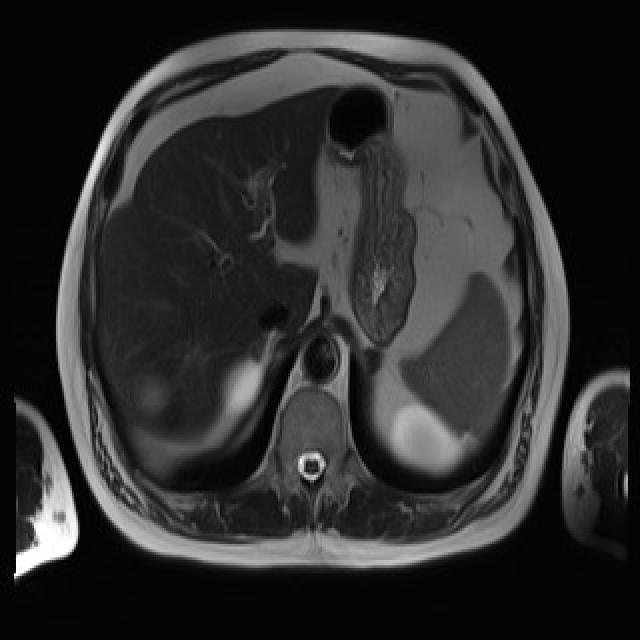sag: (222, 357, 264, 411)
sol: (389, 403, 463, 471)
